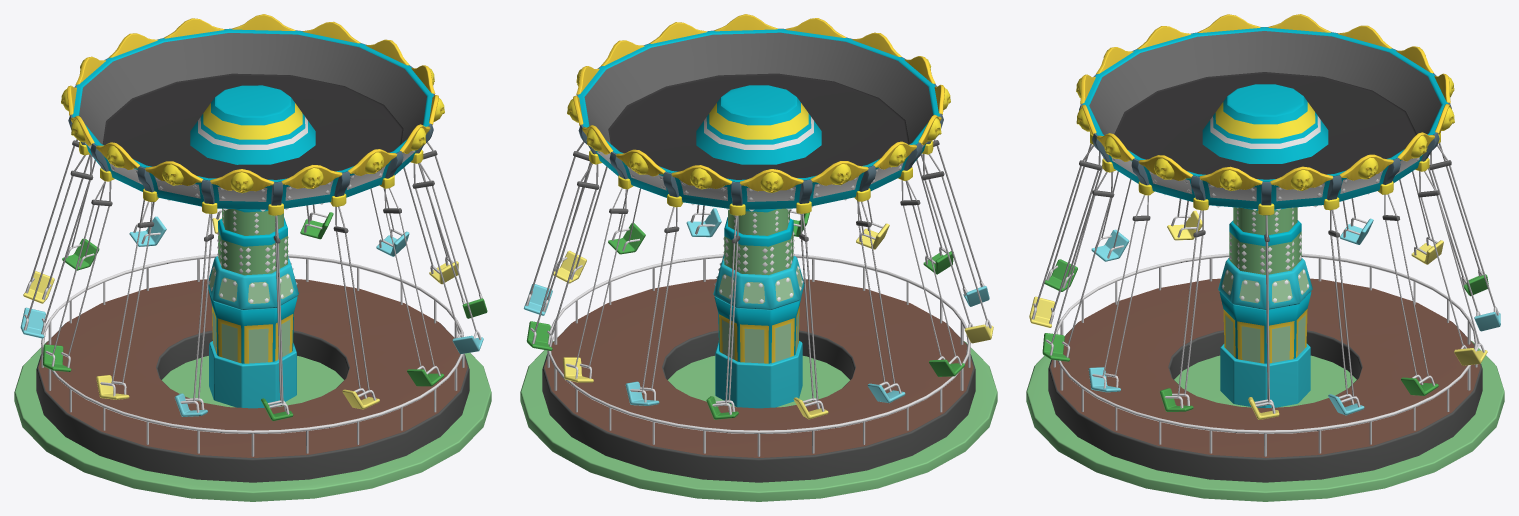
File: attraction_006.gltf
3 views of the same model, side by side, from view 1: azimuth 30°, elevation 25°; view 2: azimuth 150°, elevation 25°; view 3: azimuth 270°, elevation 25° (orthographic).
Visible parts, largest first — view 1: attraction_6_001, attraction_6_003, attraction_6_002, attraction_6_004 (3), attraction_6_005 (3), attraction_6_004, attraction_6_004 (4), attraction_6_006 (3), attraction_6_006 (4), attraction_6_005 (5), attraction_6_006 (2), attraction_6_005 (+6 smaller); view 2: attraction_6_001, attraction_6_003, attraction_6_002, attraction_6_005 (1), attraction_6_006 (3), attraction_6_004 (2), attraction_6_004 (3), attraction_6_006 (2), attraction_6_005 (2), attraction_6_006 (1), attraction_6_004 (1), attraction_6_005 (3) (+6 smaller); view 3: attraction_6_001, attraction_6_003, attraction_6_002, attraction_6_006 (4), attraction_6_005 (5), attraction_6_005, attraction_6_006 (1), attraction_6_004 (1), attraction_6_005 (1), attraction_6_004 (2), attraction_6_004, attraction_6_005 (4) (+6 smaller).
Part boxes in pixels (x1,y1,x2,y2): attraction_6_001: [14, 254, 491, 501]; attraction_6_003: [61, 14, 444, 215]; attraction_6_002: [208, 208, 298, 408]; attraction_6_004 (3): [20, 155, 93, 338]; attraction_6_005 (3): [43, 181, 112, 371]; attraction_6_004: [412, 163, 483, 353]; attraction_6_004 (4): [174, 214, 213, 416]; attraction_6_006 (3): [96, 201, 154, 399]; attraction_6_006 (4): [333, 206, 379, 409]; attraction_6_005 (5): [383, 188, 443, 386]; attraction_6_006 (2): [23, 139, 90, 303]; attraction_6_005: [418, 142, 487, 318]; attraction_6_001: [520, 254, 997, 501]; attraction_6_003: [567, 14, 950, 215]; attraction_6_002: [713, 208, 804, 408]; attraction_6_005 (1): [526, 163, 599, 350]; attraction_6_006 (3): [922, 154, 993, 343]; attraction_6_004 (2): [625, 206, 679, 405]; attraction_6_004 (3): [856, 201, 905, 403]; attraction_6_006 (2): [793, 213, 828, 419]; attraction_6_005 (2): [706, 215, 740, 419]; attraction_6_006 (1): [563, 188, 628, 382]; attraction_6_004 (1): [523, 141, 591, 315]; attraction_6_005 (3): [900, 180, 964, 376]; attraction_6_001: [1026, 253, 1504, 501]; attraction_6_003: [1076, 14, 1454, 215]; attraction_6_002: [1218, 207, 1312, 408]; attraction_6_006 (4): [1029, 145, 1101, 327]; attraction_6_005 (5): [1042, 171, 1114, 361]; attraction_6_005: [1160, 210, 1205, 411]; attraction_6_006 (1): [1418, 171, 1487, 365]; attraction_6_004 (1): [1328, 209, 1364, 415]; attraction_6_005 (1): [1382, 194, 1438, 395]; attraction_6_004 (2): [1429, 144, 1500, 331]; attraction_6_004: [1088, 195, 1150, 392]; attraction_6_005 (4): [1044, 143, 1102, 291].
Size of the model in its own units: 12.54 by 8.97 by 12.54.
2 materials, 1 textured.
